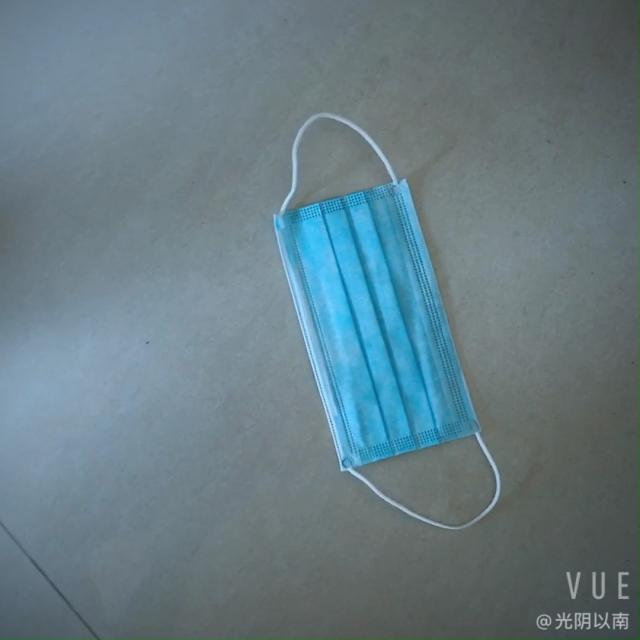face mask: (264, 173, 452, 482)
